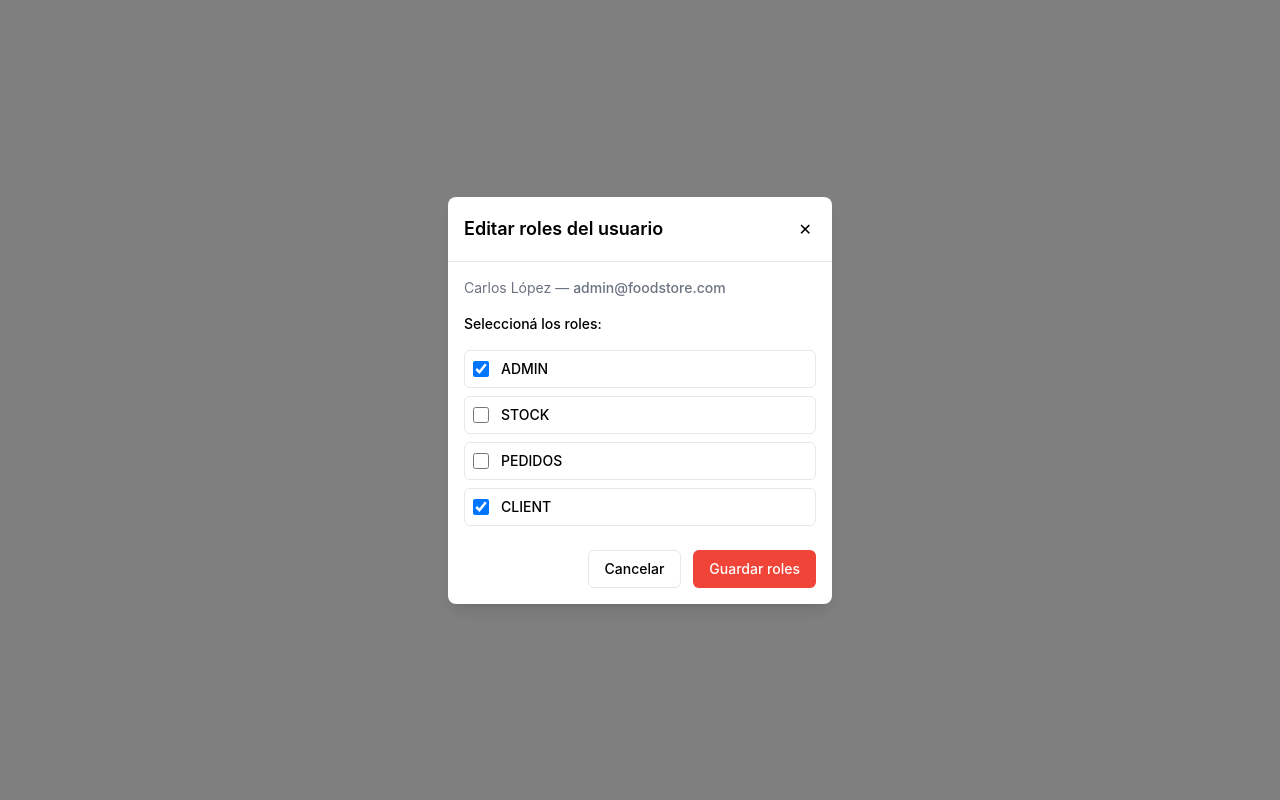
EditUserRolesModal › shows Guardando... when mutation is pending
Click the button "Guardar roles". click: (755, 568)
box: [693,550,816,588]
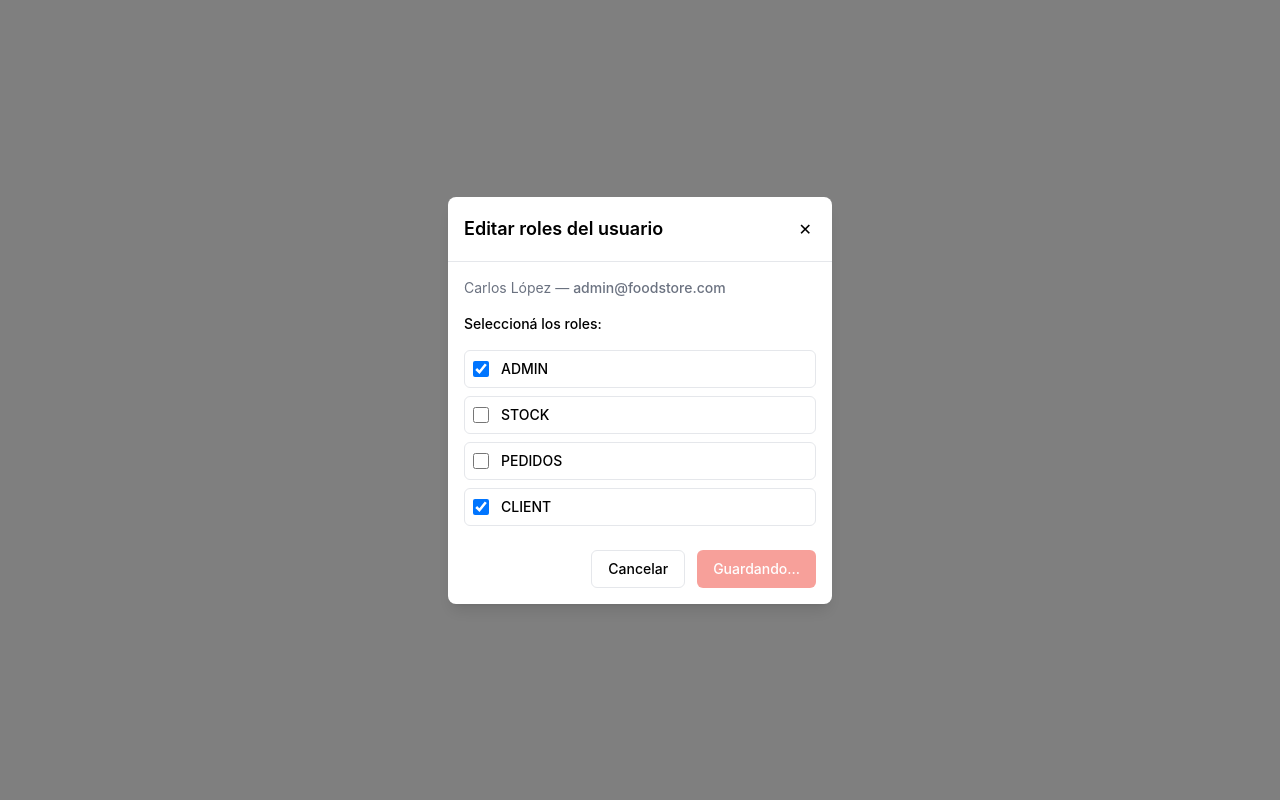
Check: the button "Guardando..." is disabled, box [697,550,816,588]
